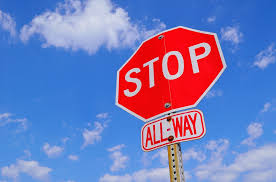SS: (113, 29, 232, 119)
